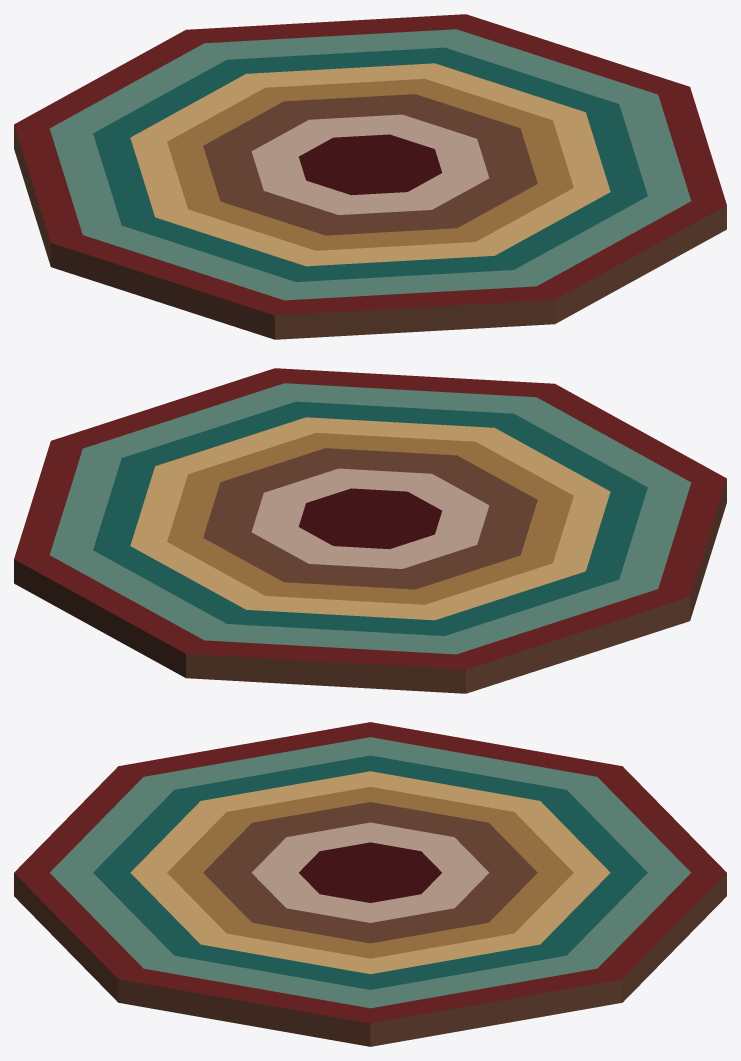
Rendered from Carpet_Round.fbx.
3 renders of one model, top to bottom at view 1: azimuth 30°, elevation 25°; view 2: azimuth 150°, elevation 25°; view 3: azimuth 270°, elevation 25°, orthographic. The views are drawn at different scales.
Parts seen in each view (by area): view 1: Carpet Round; view 2: Carpet Round; view 3: Carpet Round.
Part boxes in pixels (x1=…): Carpet Round: x1=14, y1=14, x2=726, y2=339; Carpet Round: x1=14, y1=368, x2=726, y2=693; Carpet Round: x1=14, y1=722, x2=726, y2=1046.
Size of the model in its own units: 300 by 10.91 by 300.
